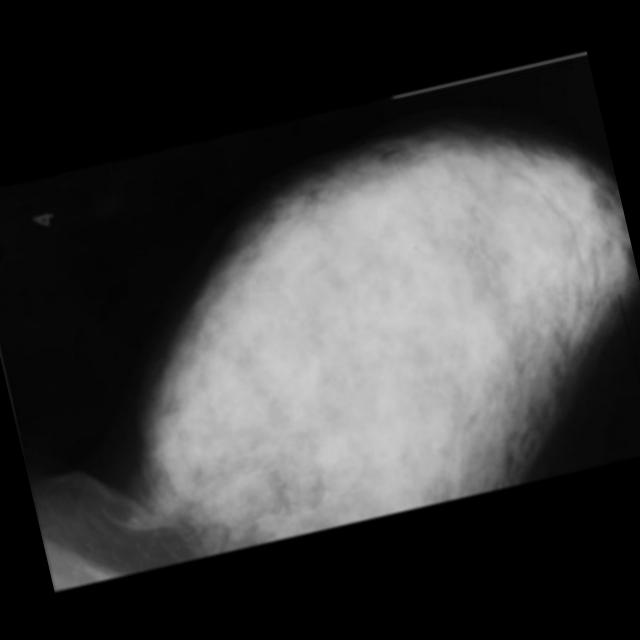CALC: (298, 442, 340, 484)
